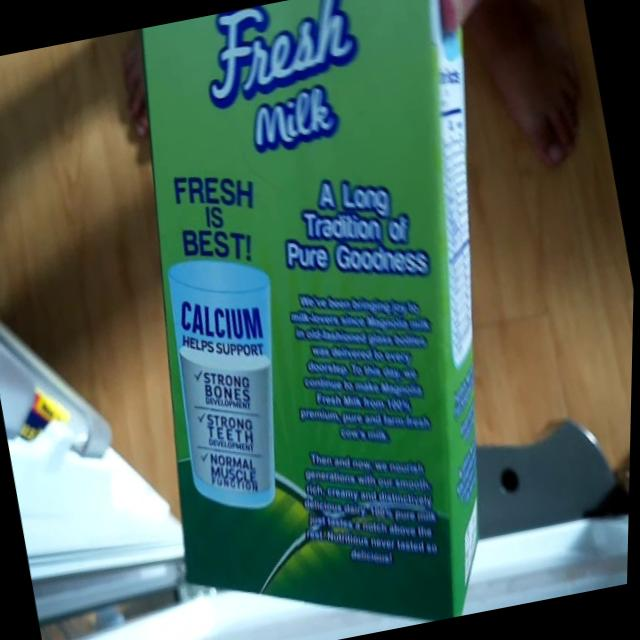milk: (78, 0, 595, 640)
